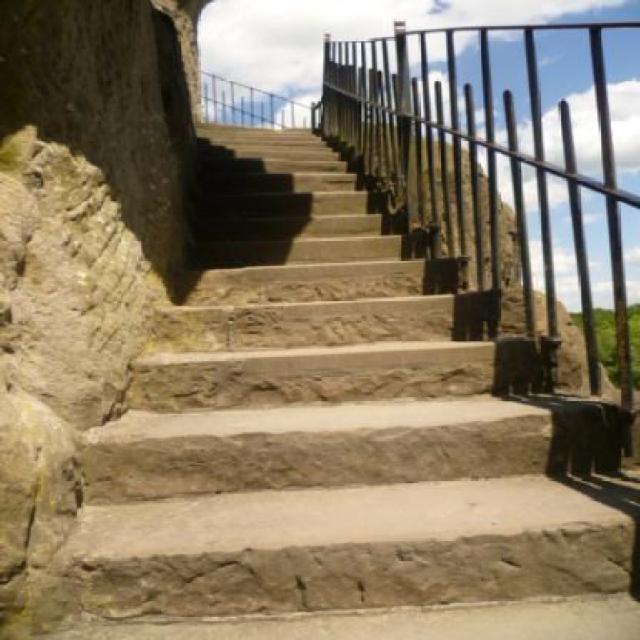stair: (52, 116, 638, 638)
